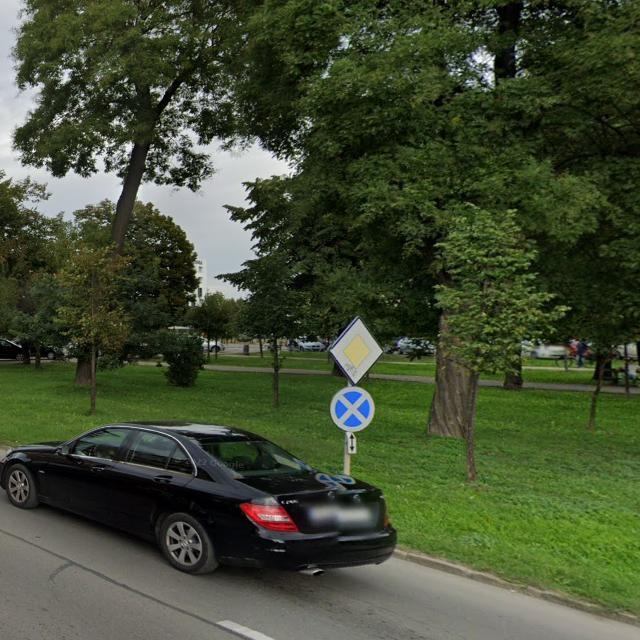forb_waiting: (329, 387, 375, 432)
